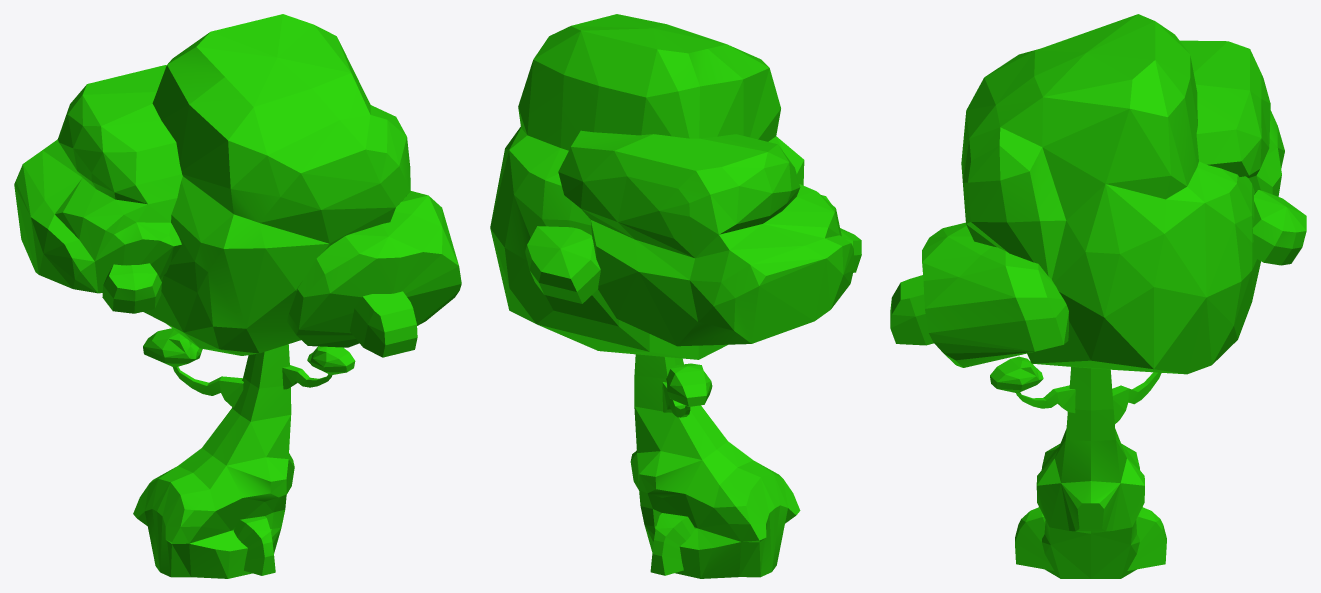
Rendered from L_tree2.FBX.
3 renders of one model, left to right at view 1: azimuth 30°, elevation 25°; view 2: azimuth 150°, elevation 25°; view 3: azimuth 270°, elevation 25°, orthographic. The views are drawn at different scales.
Visible parts, largest first — view 1: FOL_Foliage_03, 对象1115; view 2: FOL_Foliage_03, 对象1115; view 3: FOL_Foliage_03, 对象1115.
Part boxes in pixels (box(x1,y1,x2,y2)): FOL_Foliage_03: box(14, 14, 461, 374); 对象1115: box(133, 344, 332, 578); FOL_Foliage_03: box(490, 14, 861, 406); 对象1115: box(630, 354, 800, 578); FOL_Foliage_03: box(890, 14, 1306, 392); 对象1115: box(1015, 367, 1166, 578).
Bounding box in the file's own units: 1074 × 1488 × 1025.
